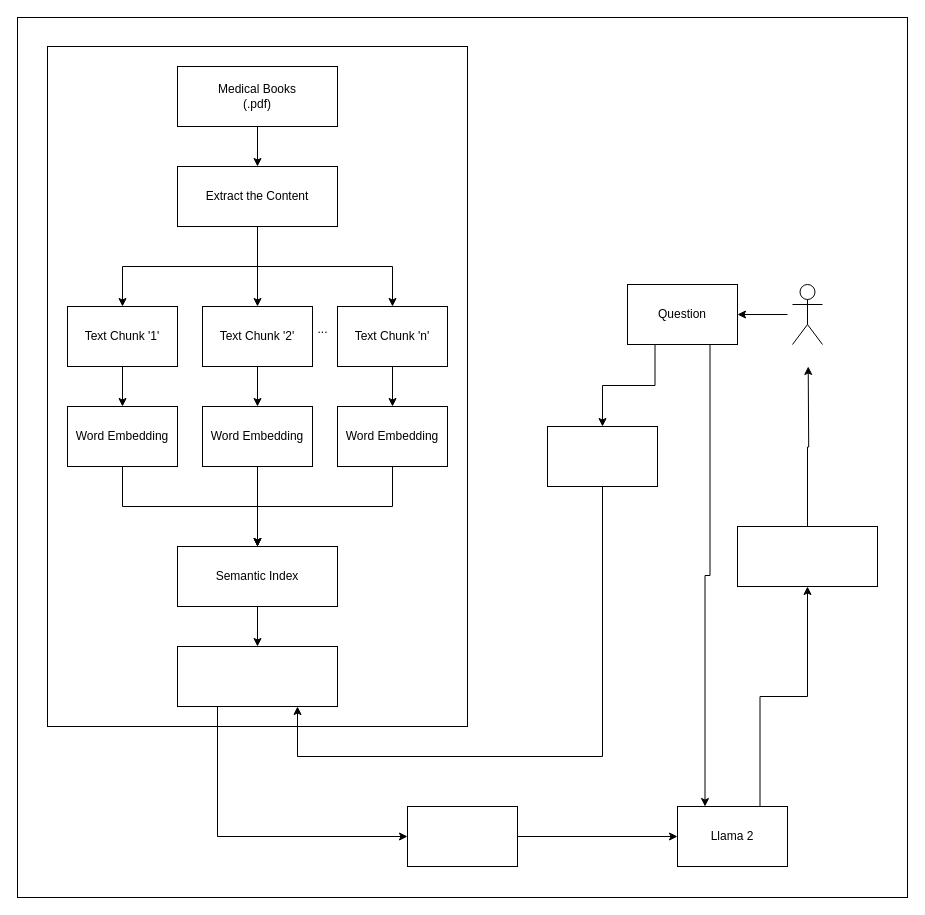
Some shapes in this 925 by 915 pixel diagram are drawn without their labels. Here are the shapes that lost their labels. From the top down, the centre of each, then its label:
At point 807,314: "Actor".
At point 602,456: "Query Embedding".
At point 807,556: "LLM Refined Answer".
At point 257,676: "Knowledge Base".
At point 462,836: "Ranked Result".
